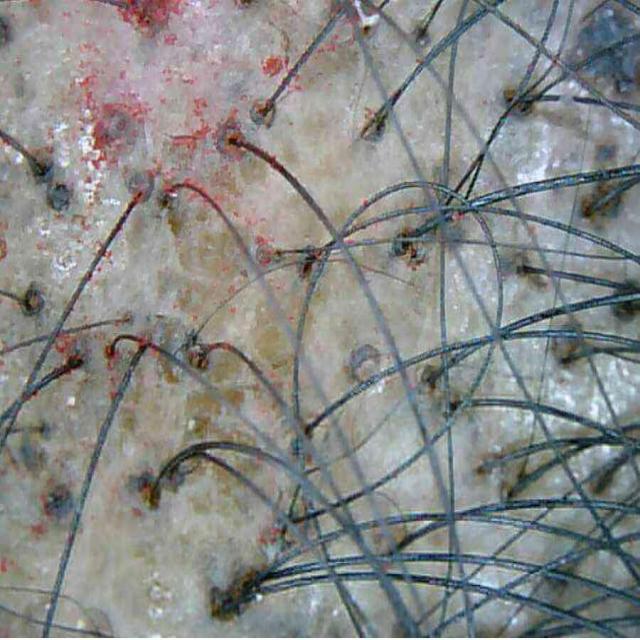ds: (31, 213, 101, 284), (601, 360, 638, 418), (545, 372, 576, 408), (582, 388, 609, 421), (579, 448, 611, 467)
s: (80, 76, 149, 164), (56, 133, 102, 205), (100, 1, 181, 37), (169, 178, 220, 210), (215, 111, 245, 160), (170, 121, 210, 150), (180, 331, 209, 370), (19, 434, 46, 473), (54, 334, 91, 362), (44, 485, 72, 518), (128, 170, 155, 201), (250, 232, 274, 266), (128, 471, 155, 500), (22, 282, 45, 315), (46, 183, 72, 211), (261, 57, 289, 77), (124, 499, 146, 519), (104, 336, 119, 360), (30, 521, 46, 539), (194, 99, 208, 116), (0, 234, 8, 260), (0, 556, 10, 572)
